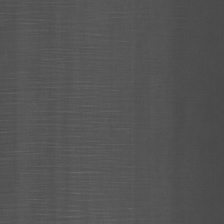waist_folding: (8, 20, 155, 207)
